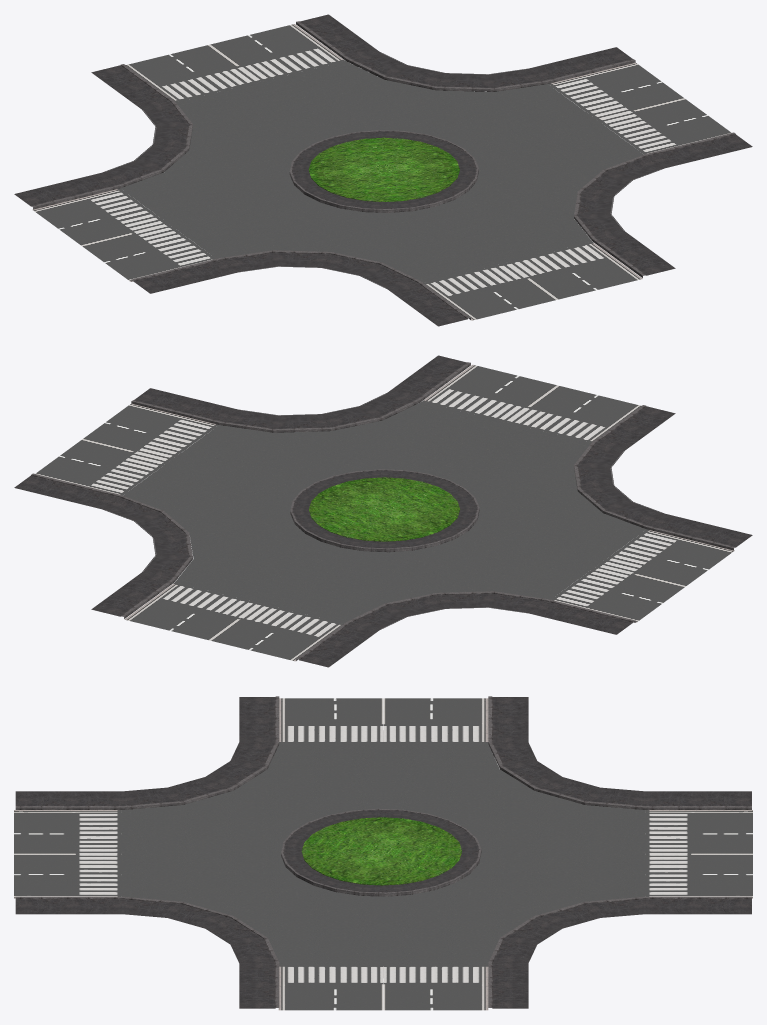
Rendered from round about 4 lines.FBX.
3 views of the same model, one above another, from view 1: azimuth 30°, elevation 25°; view 2: azimuth 150°, elevation 25°; view 3: azimuth 270°, elevation 25° (orthographic). The views are drawn at different scales.
Visible parts, largest first — view 1: Plane258; view 2: Plane258; view 3: Plane258.
Boxes of the visible parts, x1=… form: Plane258: x1=14, y1=14, x2=752, y2=326; Plane258: x1=14, y1=355, x2=752, y2=667; Plane258: x1=14, y1=696, x2=752, y2=1010.
Bounding box in the file's own units: 82.66 × 0.6741 × 82.65.
